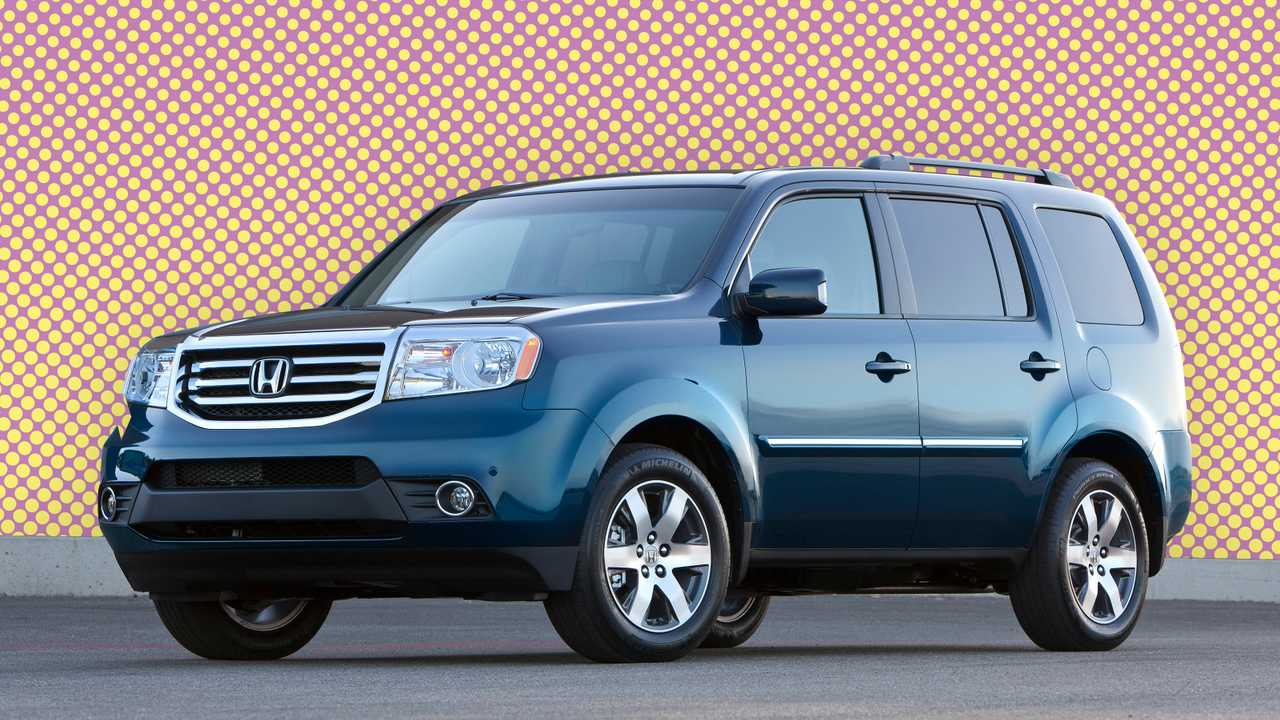car: (95, 155, 1193, 666)
